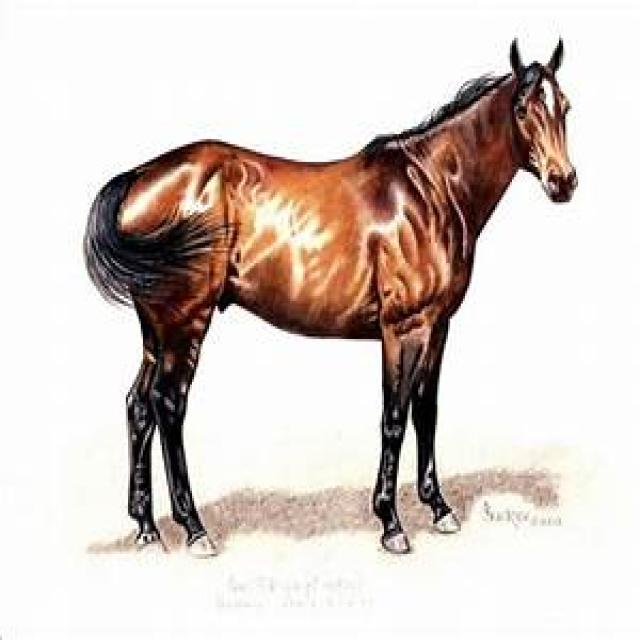horse: (85, 42, 576, 555)
